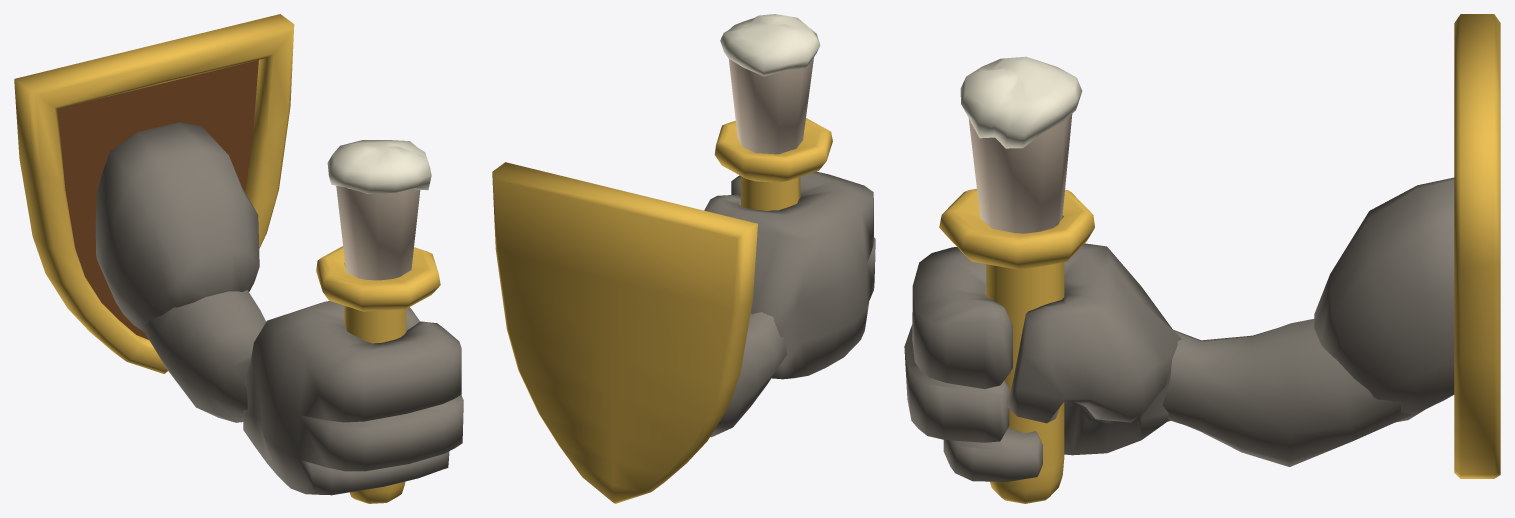
Rendered from props_CandleArm.fbx.
3 views of the same model, side by side, from view 1: azimuth 30°, elevation 25°; view 2: azimuth 150°, elevation 25°; view 3: azimuth 270°, elevation 25° (orthographic). The views are drawn at different scales.
Visible parts, largest first — view 1: CandleArm; view 2: CandleArm; view 3: CandleArm.
Boxes of the visible parts, x1,y1,x2,y2 form: CandleArm: (14, 14, 463, 503); CandleArm: (492, 14, 875, 503); CandleArm: (904, 14, 1500, 503).
Bounding box in the file's own units: 56.4 × 71.9 × 90.51.
